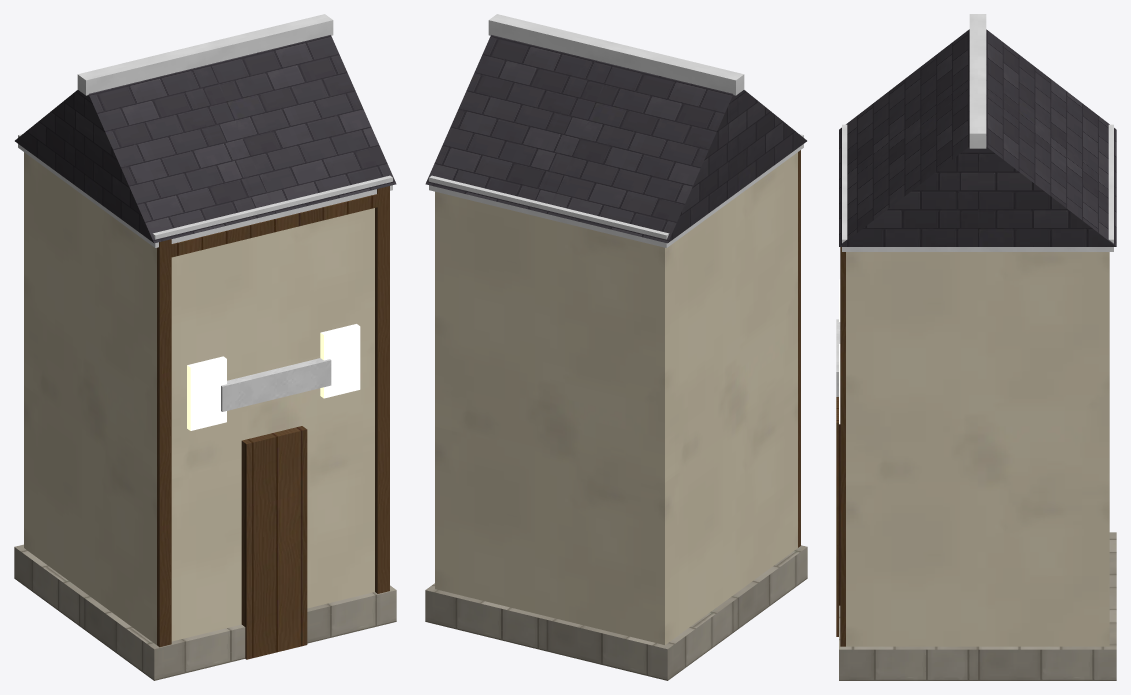
Rendered from category.other.t4.glb.
3 renders of one model, left to right at view 1: azimuth 30°, elevation 25°; view 2: azimuth 150°, elevation 25°; view 3: azimuth 270°, elevation 25°, orthographic.
Parts seen in each view (by area): view 1: building.category.other.t4; view 2: building.category.other.t4; view 3: building.category.other.t4.
Boxes of the visible parts, x1=… form: building.category.other.t4: x1=14, y1=14, x2=396, y2=680; building.category.other.t4: x1=425, y1=14, x2=807, y2=680; building.category.other.t4: x1=836, y1=14, x2=1116, y2=680.
Bounding box in the file's own units: 2.04 × 4.36 × 2.02.
7 materials, 6 textured.
